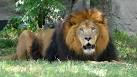lion: (13, 8, 122, 70)
